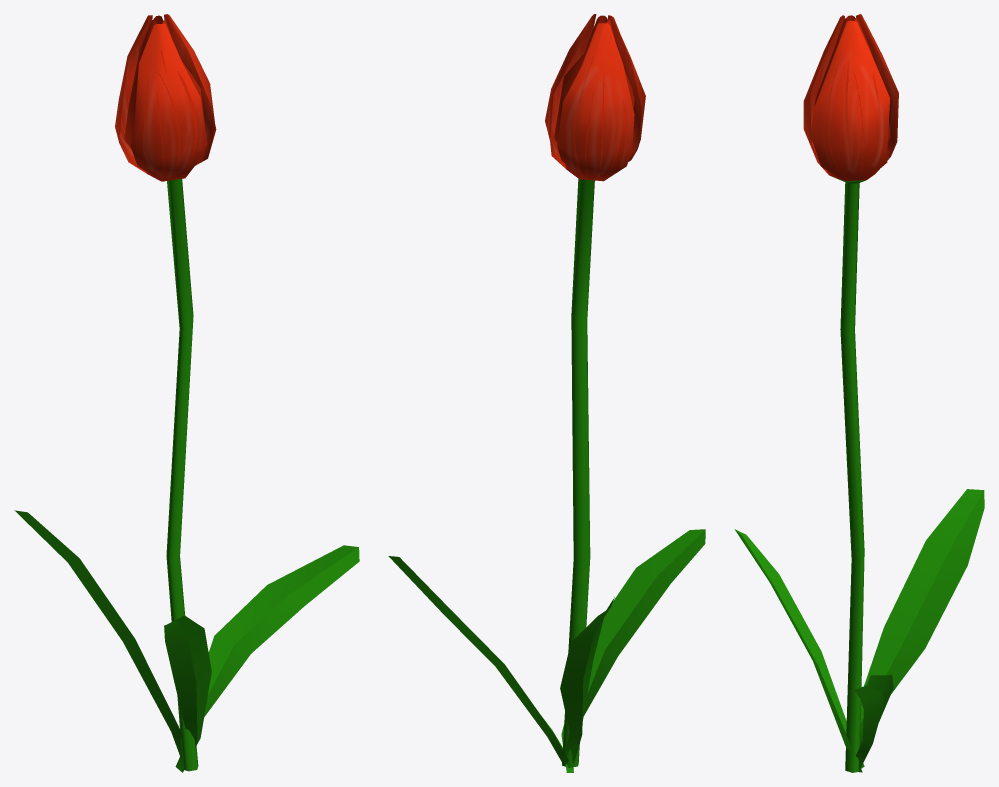
Rendered from Tulip Stage 2.fbx.
The picture shows the model from 3 angles, left to right: view 1: azimuth 30°, elevation 25°; view 2: azimuth 150°, elevation 25°; view 3: azimuth 270°, elevation 25°; orthographic projection. The views are drawn at different scales.
Parts seen in each view (by area): view 1: Tulip_Stage_2; view 2: Tulip_Stage_2; view 3: Tulip_Stage_2.
Boxes of the visible parts, x1,y1,x2,y2 form: Tulip_Stage_2: [14, 14, 359, 772]; Tulip_Stage_2: [388, 14, 705, 772]; Tulip_Stage_2: [734, 14, 984, 772].
Bounding box in the file's own units: 0.248 × 0.6374 × 0.1947.
Materials: 2 (1 with a texture image).
